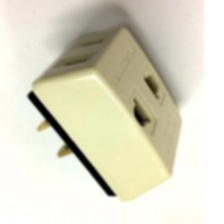three_eye_plug: (23, 19, 183, 205)
